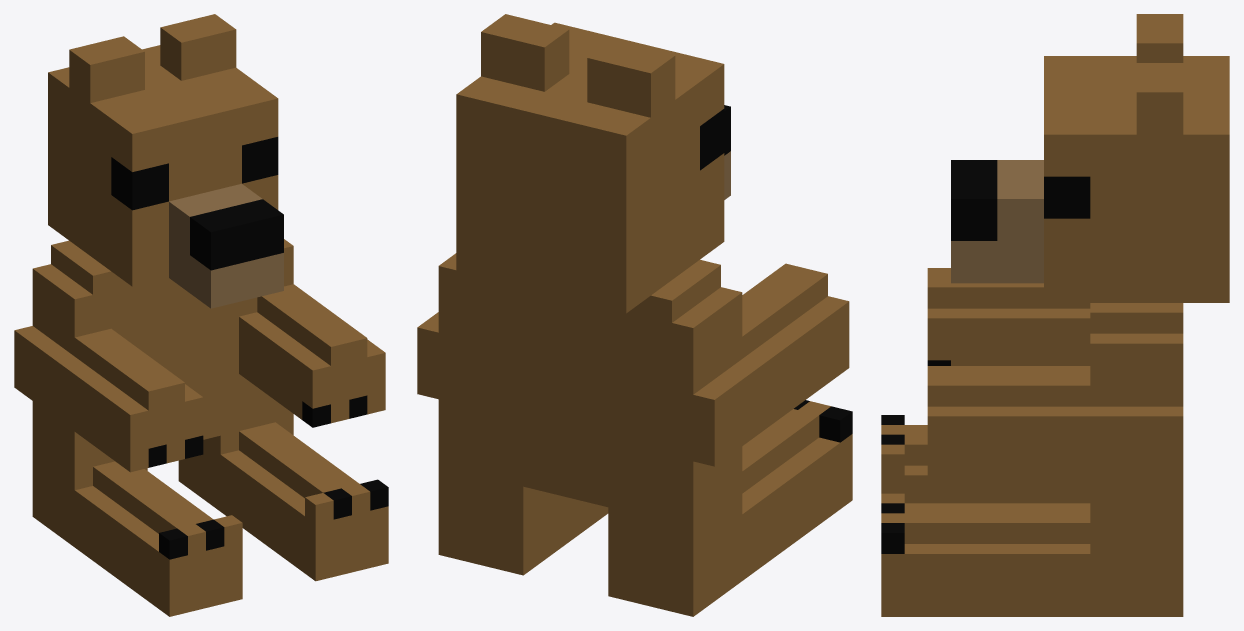
File: pre_bear.obj
3 renders of one model, left to right at view 1: azimuth 30°, elevation 25°; view 2: azimuth 150°, elevation 25°; view 3: azimuth 270°, elevation 25°, orthographic. The views are drawn at different scales.
Parts seen in each view (by area): view 1: pre_bear; view 2: pre_bear; view 3: pre_bear.
Boxes of the visible parts, x1,y1,x2,y2 form: pre_bear: (14, 14, 388, 616); pre_bear: (417, 14, 852, 616); pre_bear: (881, 14, 1229, 616).
Bounding box in the file's own units: 14 × 24 × 15.
Materials: 1 (1 with a texture image).
